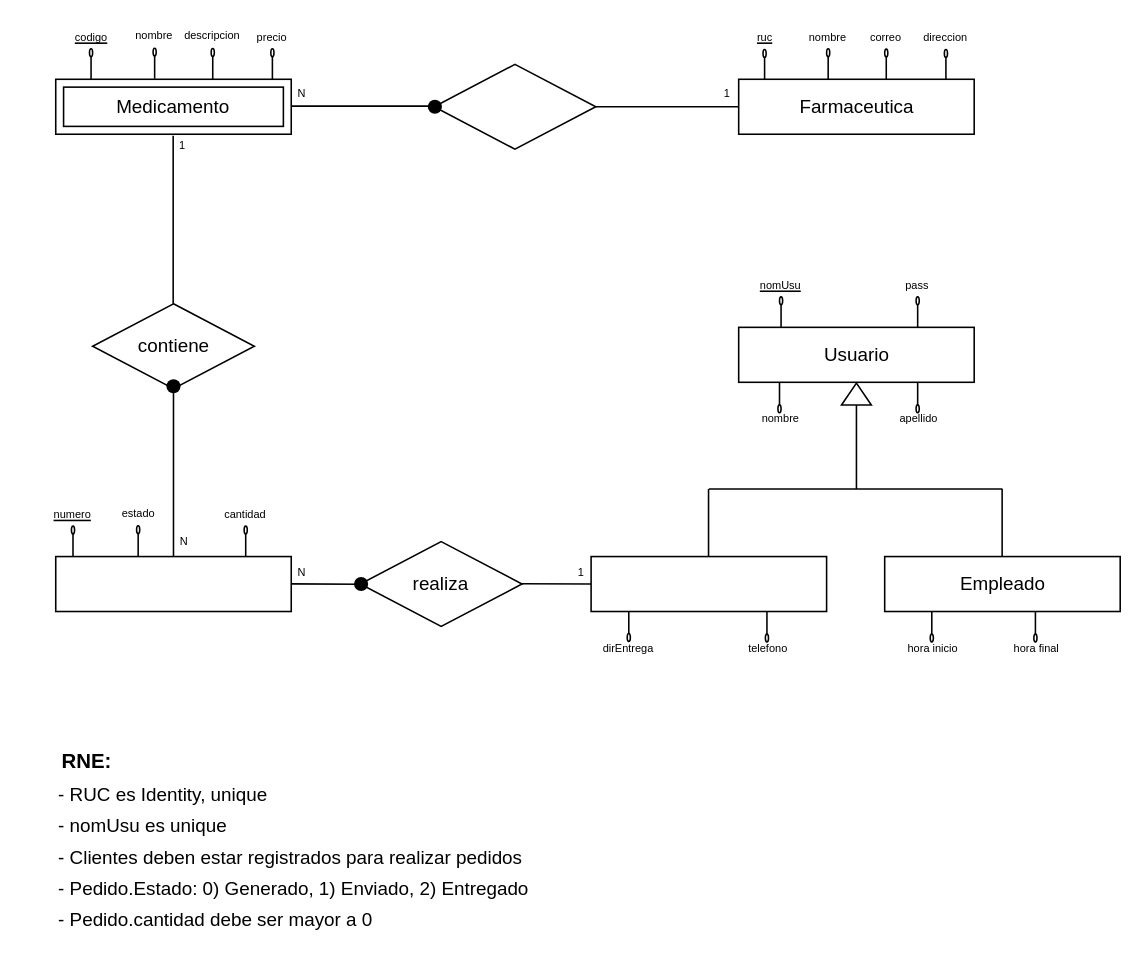
The diagram is 1148 pixels wide and 964 high, and some of its shapes have lost their labels. Here are the shapes that lost their labels. From the top down, the box of each, then its label:
(433, 63, 596, 149): provee
(54, 555, 291, 612): Pedido
(590, 555, 827, 612): Cliente
